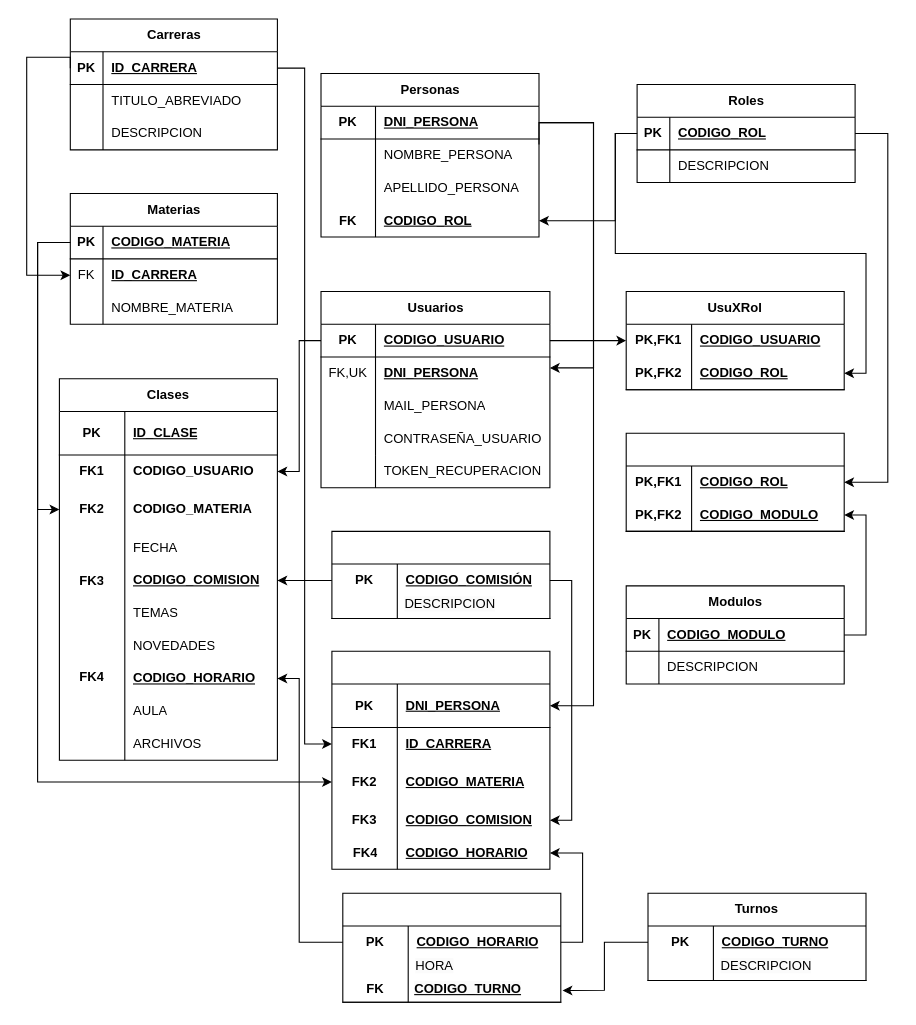
This 916x1025 diagram has some shape labels left out. Each missing label, with the box of its shape:
Comisiones: (331, 530, 550, 619)
Horarios: (342, 892, 561, 1002)
Personas_carreras_materias: (331, 650, 550, 869)
RolxMod: (625, 432, 844, 531)
